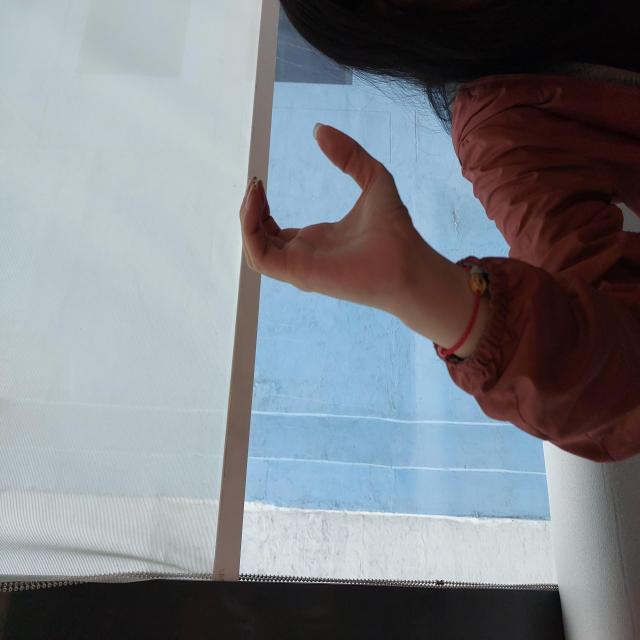C: (330, 237, 520, 422)
